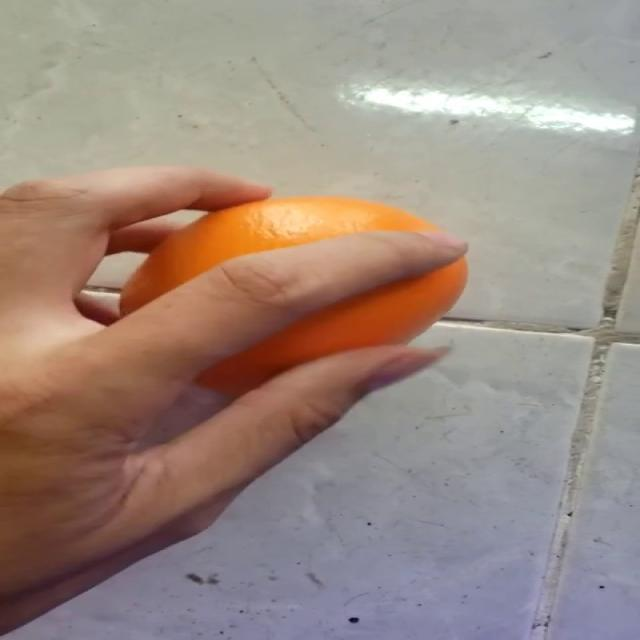Orange: (118, 193, 469, 399)
